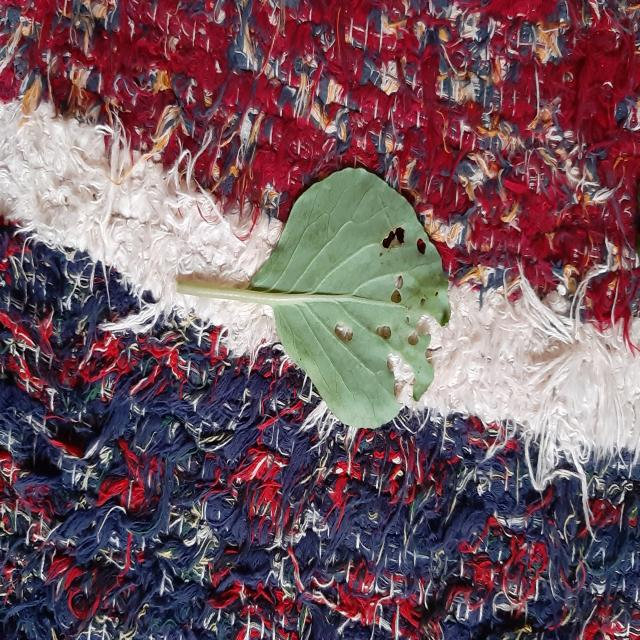Kohlrabi: (178, 169, 450, 429)
